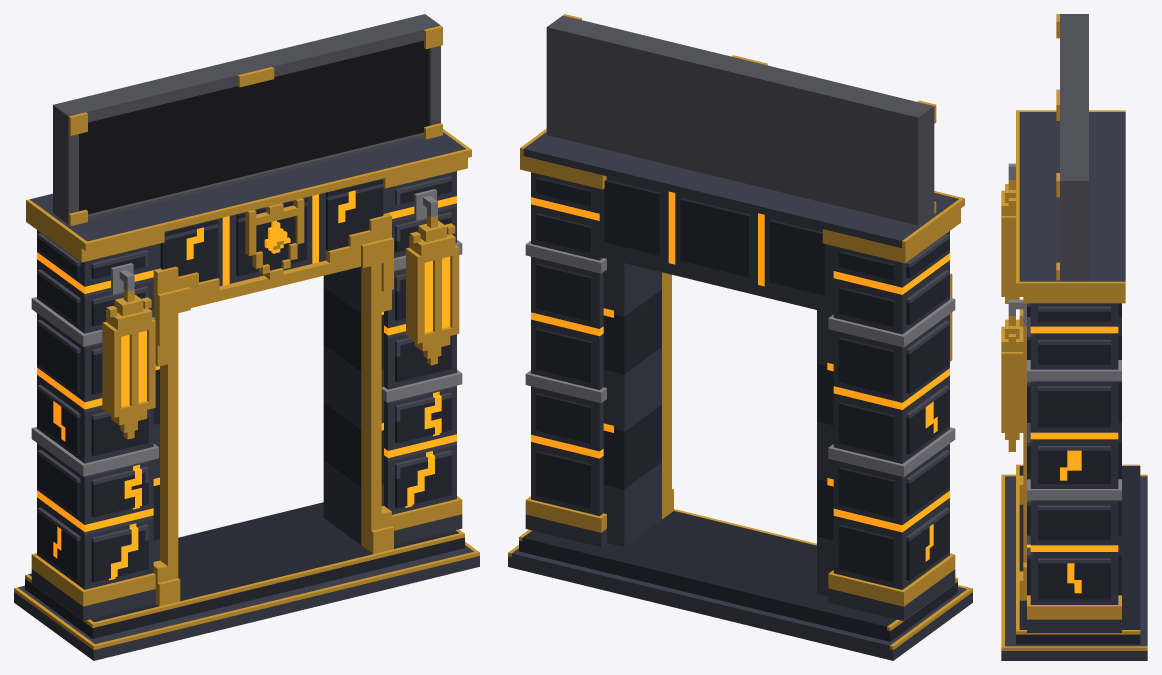
File: Lobby_PortalArch_ObsidianForge.glb
3 renders of one model, left to right at view 1: azimuth 30°, elevation 25°; view 2: azimuth 150°, elevation 25°; view 3: azimuth 270°, elevation 25°, orthographic. The views are drawn at different scales.
Visible parts, largest first — view 1: PortalArch_ObsidianForge_GoldTrim, PortalArch_ObsidianForge_Obsidian, PortalArch_ObsidianForge_ObsidianBevel, PortalArch_ObsidianForge_SignBoardBlack, PortalArch_ObsidianForge_SignFrameDarkGrey, PortalArch_ObsidianForge_MoltenOrange, PortalArch_ObsidianForge_ObsidianHighlight, PortalArch_ObsidianForge_IronBand; view 2: PortalArch_ObsidianForge_Obsidian, PortalArch_ObsidianForge_ObsidianBevel, PortalArch_ObsidianForge_SignFrameDarkGrey, PortalArch_ObsidianForge_GoldTrim, PortalArch_ObsidianForge_MoltenOrange, PortalArch_ObsidianForge_IronBand, PortalArch_ObsidianForge_ObsidianHighlight; view 3: PortalArch_ObsidianForge_ObsidianBevel, PortalArch_ObsidianForge_Obsidian, PortalArch_ObsidianForge_GoldTrim, PortalArch_ObsidianForge_SignFrameDarkGrey, PortalArch_ObsidianForge_IronBand, PortalArch_ObsidianForge_ObsidianHighlight, PortalArch_ObsidianForge_MoltenOrange.
Boxes of the visible parts, box(x1,y1,x2,y2) form: PortalArch_ObsidianForge_GoldTrim: box(14, 25, 479, 649); PortalArch_ObsidianForge_Obsidian: box(25, 179, 464, 638); PortalArch_ObsidianForge_ObsidianBevel: box(14, 132, 479, 660); PortalArch_ObsidianForge_SignBoardBlack: box(79, 40, 428, 214); PortalArch_ObsidianForge_SignFrameDarkGrey: box(53, 14, 440, 224); PortalArch_ObsidianForge_MoltenOrange: box(37, 190, 456, 580); PortalArch_ObsidianForge_ObsidianHighlight: box(37, 176, 456, 542); PortalArch_ObsidianForge_IronBand: box(31, 189, 462, 476); PortalArch_ObsidianForge_Obsidian: box(519, 177, 957, 641); PortalArch_ObsidianForge_ObsidianBevel: box(508, 132, 972, 660); PortalArch_ObsidianForge_SignFrameDarkGrey: box(546, 15, 934, 225); PortalArch_ObsidianForge_GoldTrim: box(508, 14, 972, 649); PortalArch_ObsidianForge_MoltenOrange: box(531, 191, 949, 561); PortalArch_ObsidianForge_IronBand: box(525, 241, 955, 476); PortalArch_ObsidianForge_ObsidianHighlight: box(906, 234, 949, 540); PortalArch_ObsidianForge_ObsidianBevel: box(1001, 112, 1147, 660); PortalArch_ObsidianForge_Obsidian: box(1016, 303, 1140, 644); PortalArch_ObsidianForge_GoldTrim: box(1001, 14, 1147, 650); PortalArch_ObsidianForge_SignFrameDarkGrey: box(1060, 14, 1088, 280); PortalArch_ObsidianForge_IronBand: box(1008, 163, 1121, 500); PortalArch_ObsidianForge_ObsidianHighlight: box(1027, 303, 1110, 563); PortalArch_ObsidianForge_MoltenOrange: box(1027, 326, 1118, 593).
Size of the model in its own units: 2.8 by 3.6 by 1.
